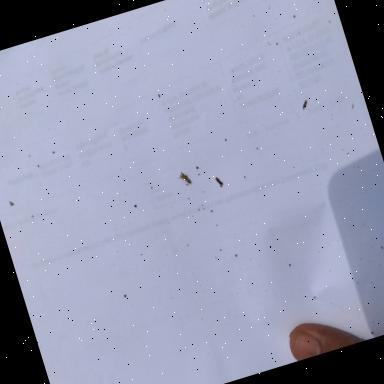pbw: (176, 170, 192, 187)
